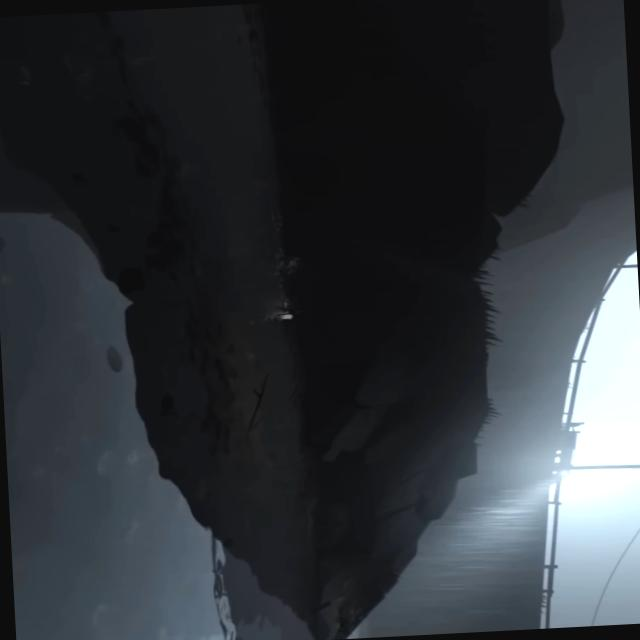boy: (278, 299, 300, 319)
